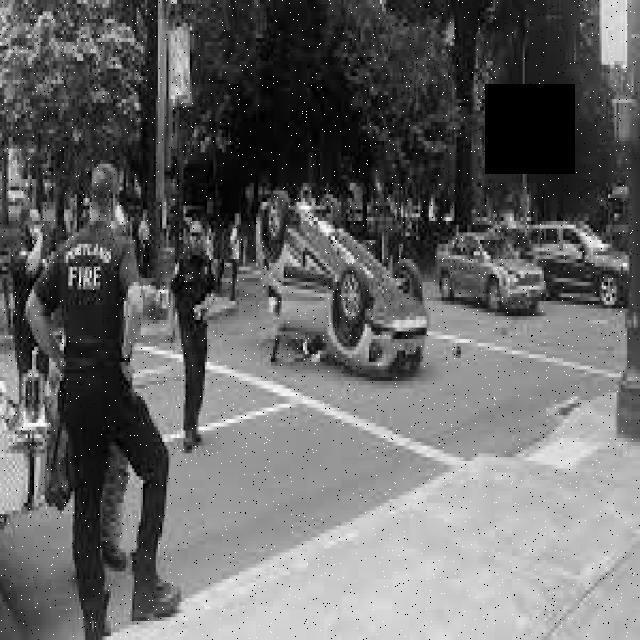accident: (254, 174, 431, 379)
vehicle: (435, 228, 547, 316), (529, 221, 633, 310)
